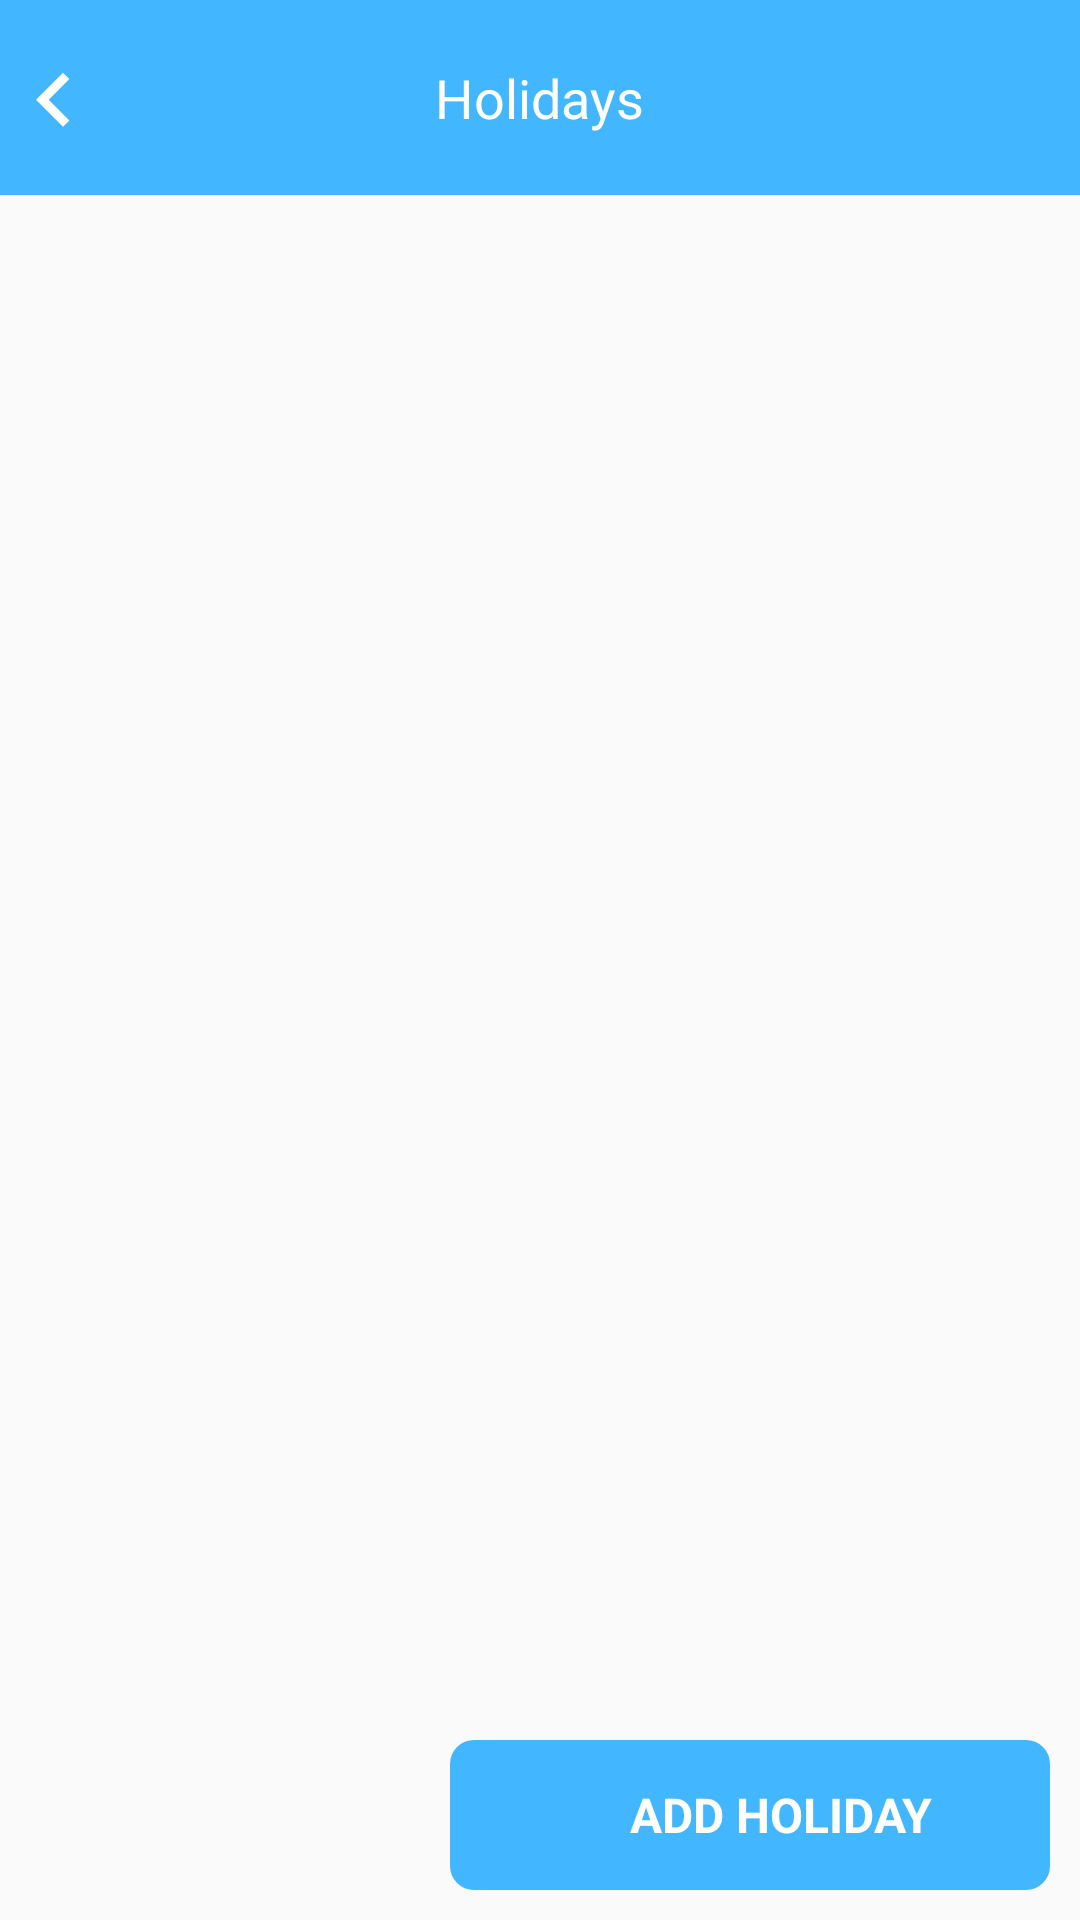

Where icons sit on this 1080*1920 app screen, as (x1=x1, y1=y1, x2=x2, y2=y2):
keyboard arrow left: (x1=36, y1=73, x2=69, y2=127)
